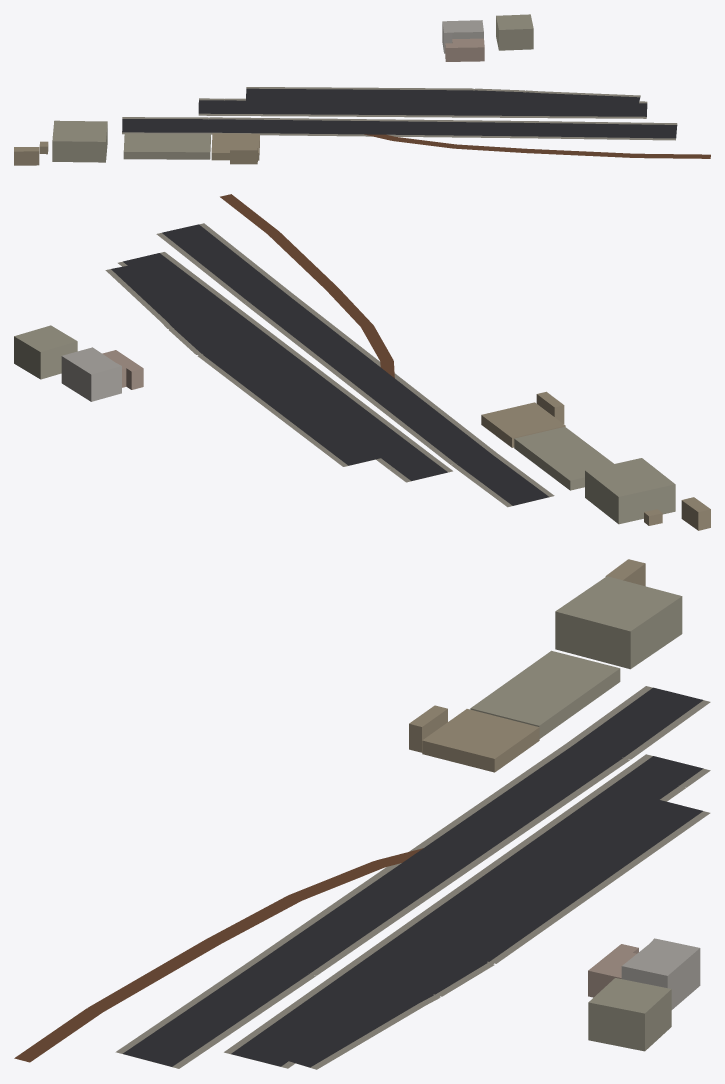
3 renders of one model, top to bottom at view 1: azimuth 30°, elevation 25°; view 2: azimuth 150°, elevation 25°; view 3: azimuth 270°, elevation 25°, orthographic. The views are drawn at different scales.
Parts seen in each view (by area): view 1: tile_-2_1; view 2: tile_-2_1; view 3: tile_-2_1.
Boxes of the visible parts, bbox=[...] form: tile_-2_1: bbox=[14, 14, 710, 165]; tile_-2_1: bbox=[14, 194, 710, 530]; tile_-2_1: bbox=[14, 559, 710, 1069].
Bounding box in the file's own units: 275 × 10 × 167.
